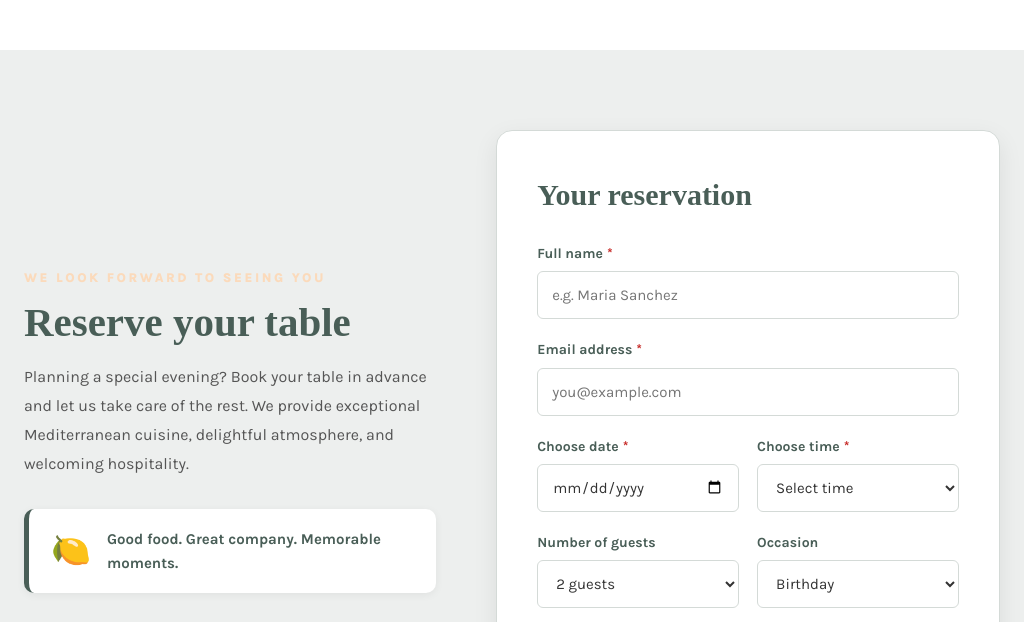
Test: Little Lemon Table Booking Application › displays an accessible error alert when booking submission fails
(page scrolled)
Type "John Doe" into the field labelled "Full name *" at [748, 295], box left=537, top=271, right=959, bottom=319
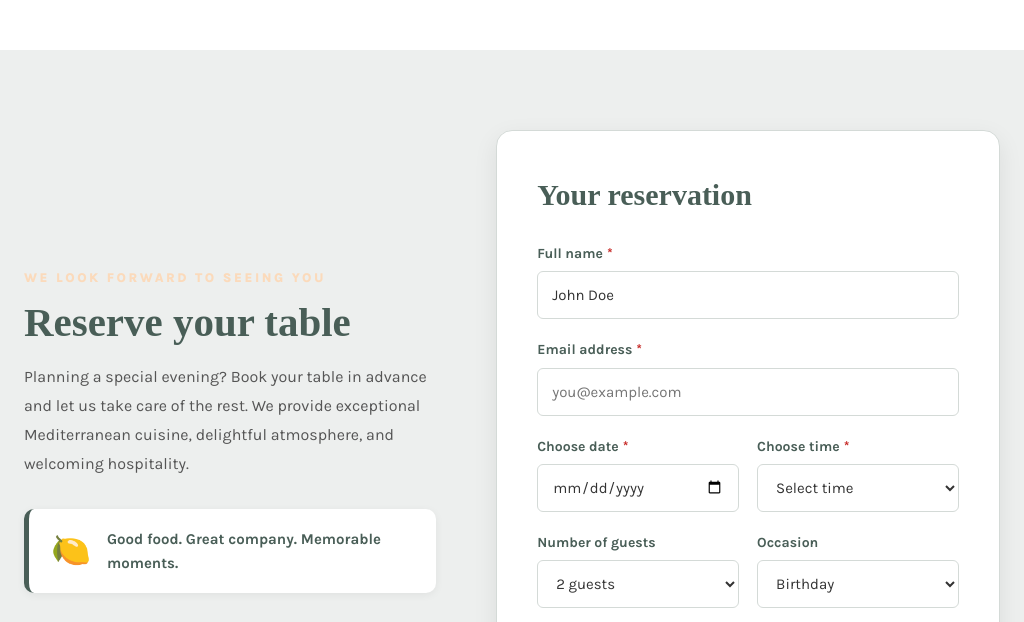
Type "john@example.com" into the field labelled "Email address *" at [748, 392], box left=537, top=368, right=959, bottom=416
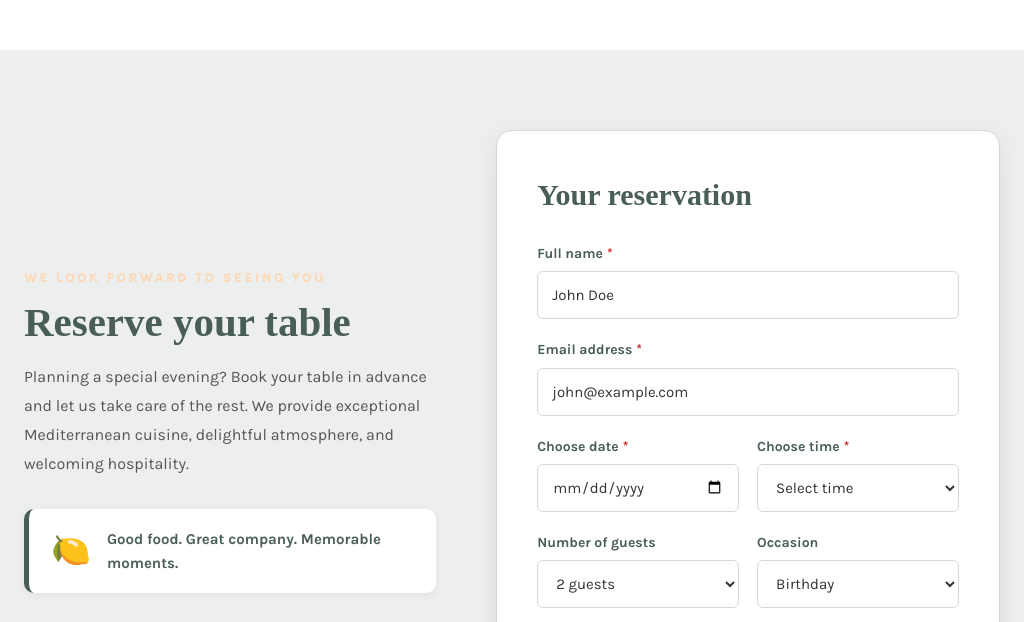
Type "2099-08-20" into the date field labelled "Choose date *" at [638, 488], box left=537, top=464, right=739, bottom=512
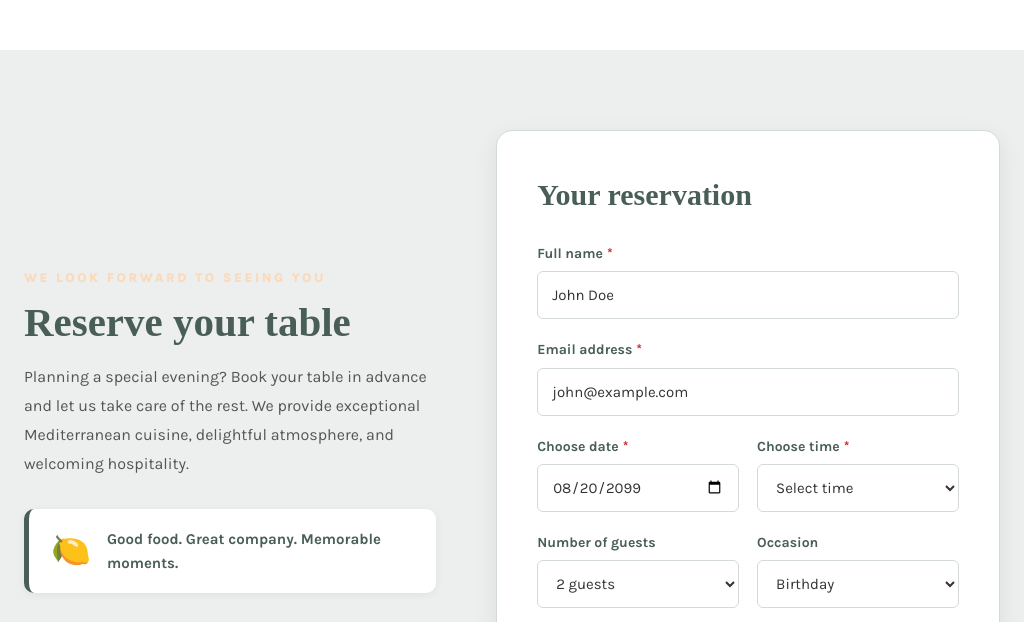
Select "17:00" in the dropdown labelled "Choose time *" at [858, 488], box left=757, top=464, right=959, bottom=512
(page scrolled)
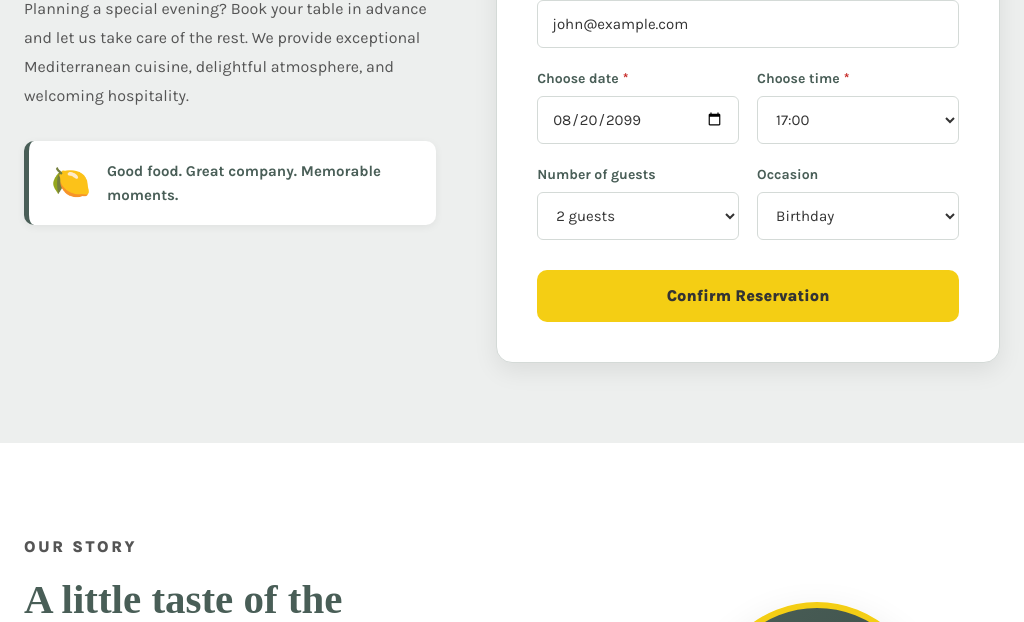
Click the button "Confirm Reservation" at [748, 296], box left=537, top=270, right=959, bottom=322
(page scrolled)
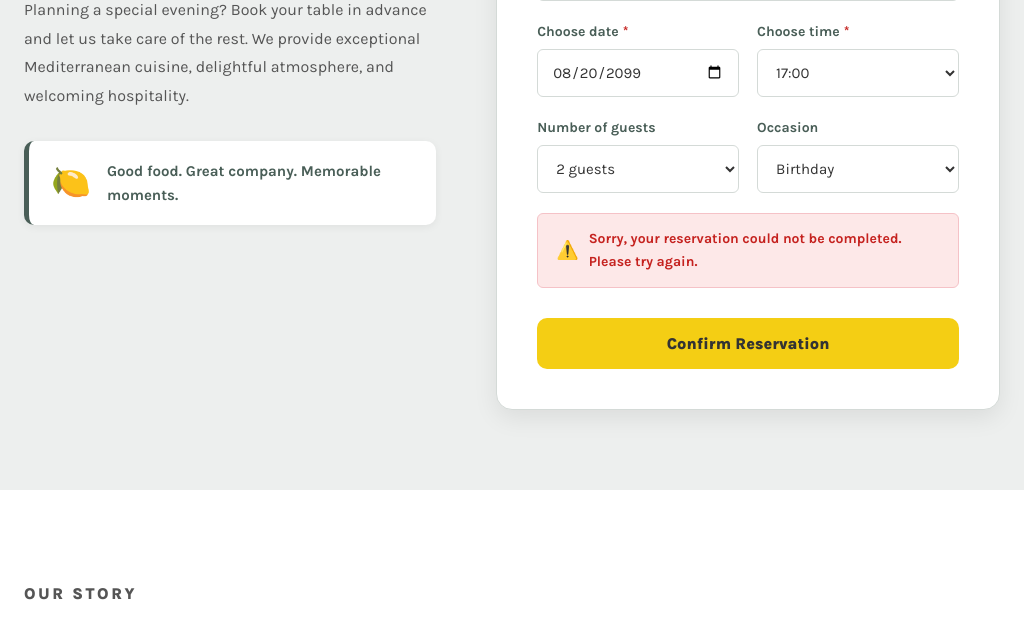
expect the button "Confirm Reservation" is shown: met, box left=537, top=318, right=959, bottom=369
expect the message "⚠️ Sorry, your reservation could not be completed. Please try again." is shown: met, box left=537, top=213, right=959, bottom=288
expect the message shows "Sorry, your reservation could not be completed": met, box left=589, top=230, right=902, bottom=270
